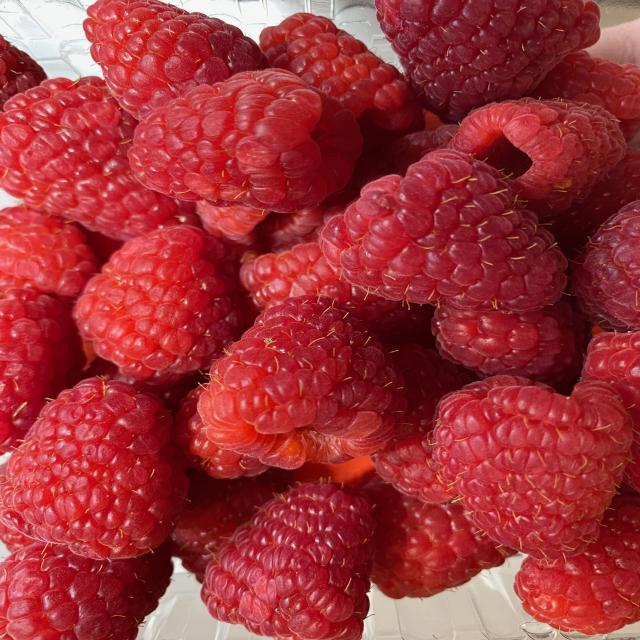raspberries: (7, 11, 620, 634)
